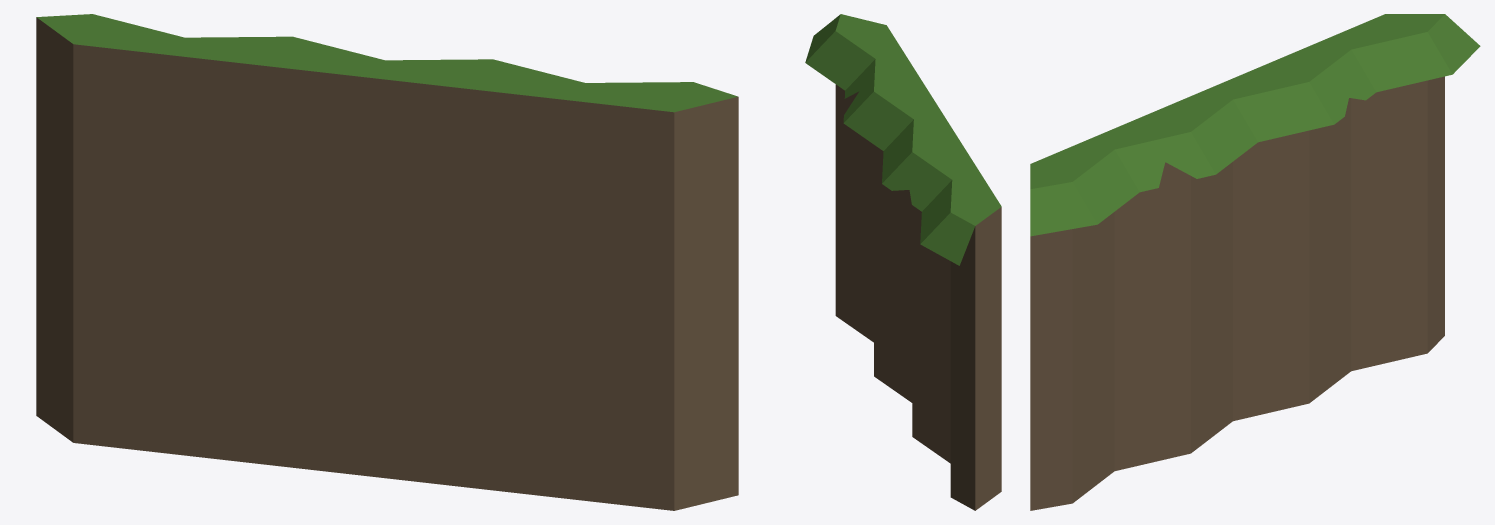
File: cliff_topDiagonal_rock.glb
3 renders of one model, left to right at view 1: azimuth 30°, elevation 25°; view 2: azimuth 150°, elevation 25°; view 3: azimuth 270°, elevation 25°, orthographic. The views are drawn at different scales.
Visible parts, largest first — view 1: cliff_topDiagonal_rock; view 2: cliff_topDiagonal_rock; view 3: cliff_topDiagonal_rock.
Part boxes in pixels (bbox=[...]): cliff_topDiagonal_rock: bbox=[36, 14, 738, 510]; cliff_topDiagonal_rock: bbox=[805, 14, 1001, 510]; cliff_topDiagonal_rock: bbox=[1030, 14, 1480, 510].
Bounding box in the file's own units: 1.27 × 1 × 1.27.
